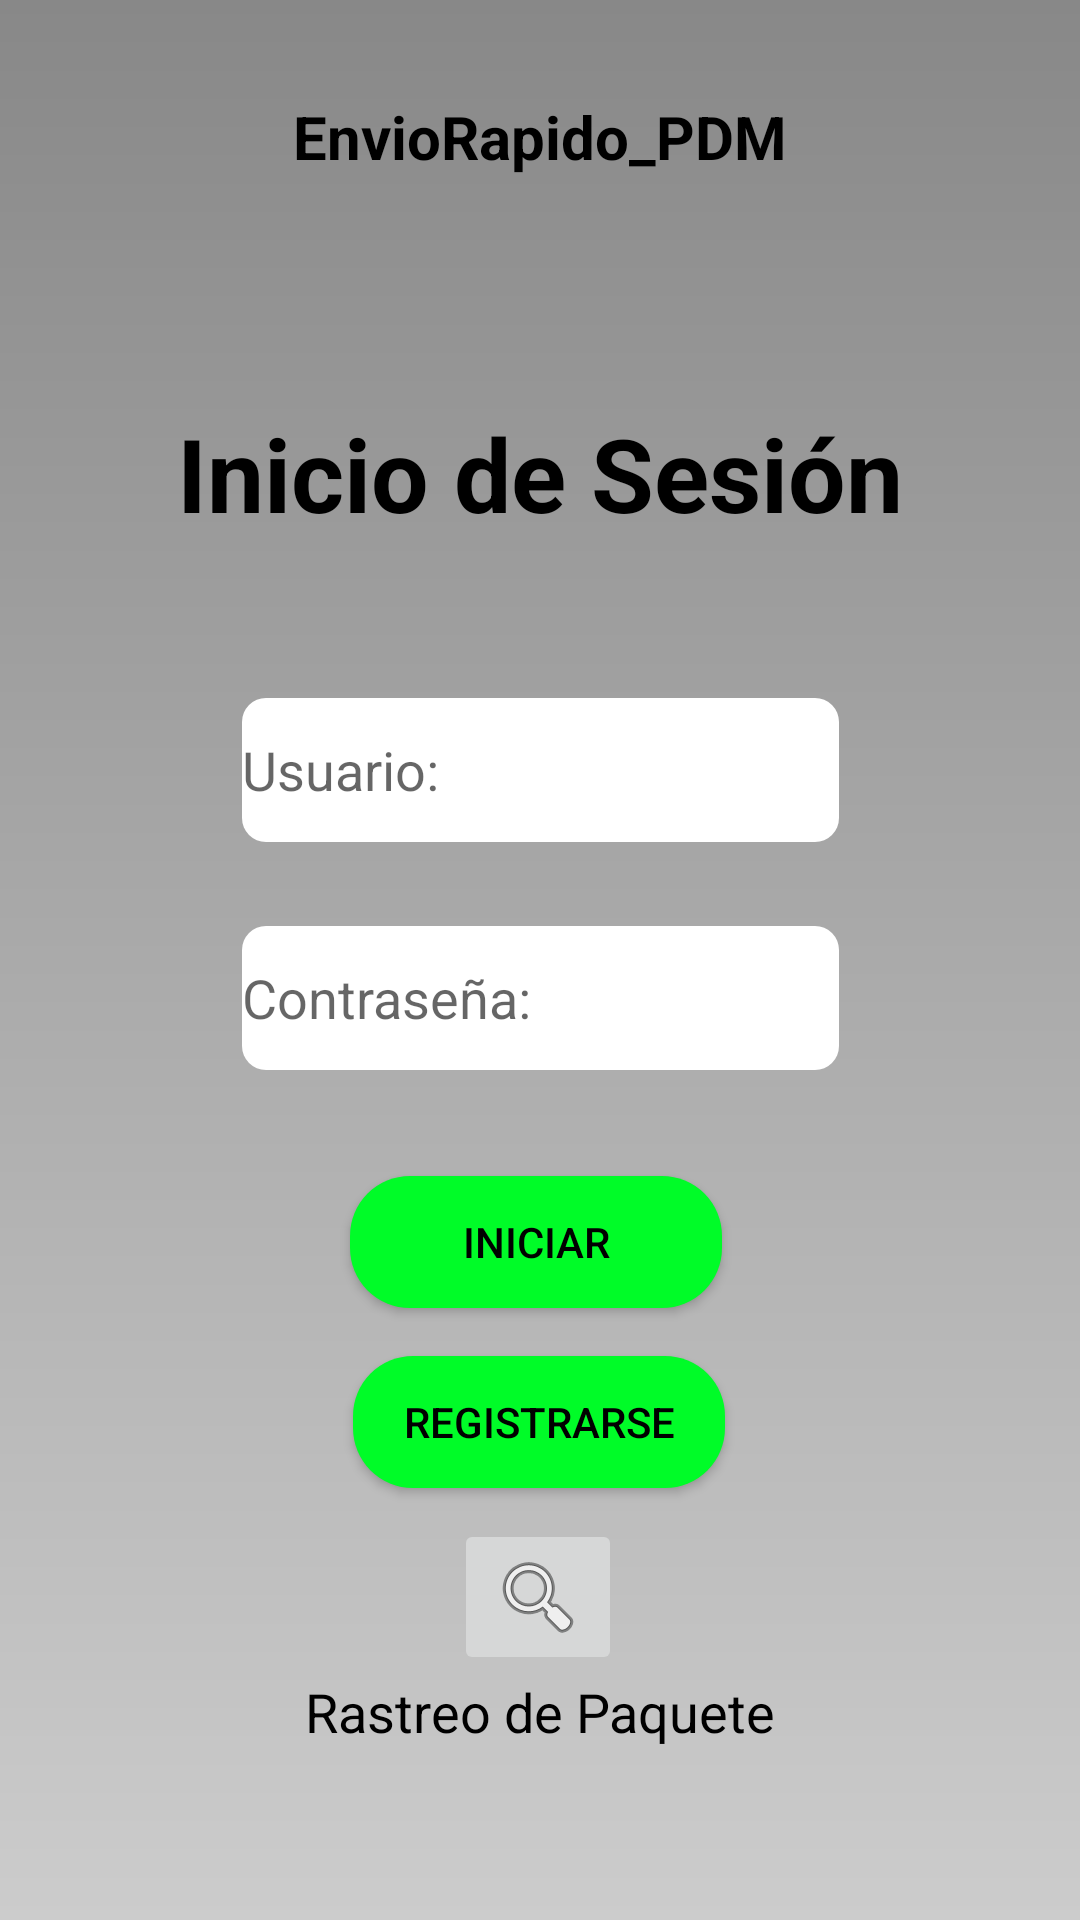

Locate icon controls on the screen. Image size 1080 × 1920, boxes as (x1, y1, x2, y2).
search: (466, 1537, 610, 1657)
